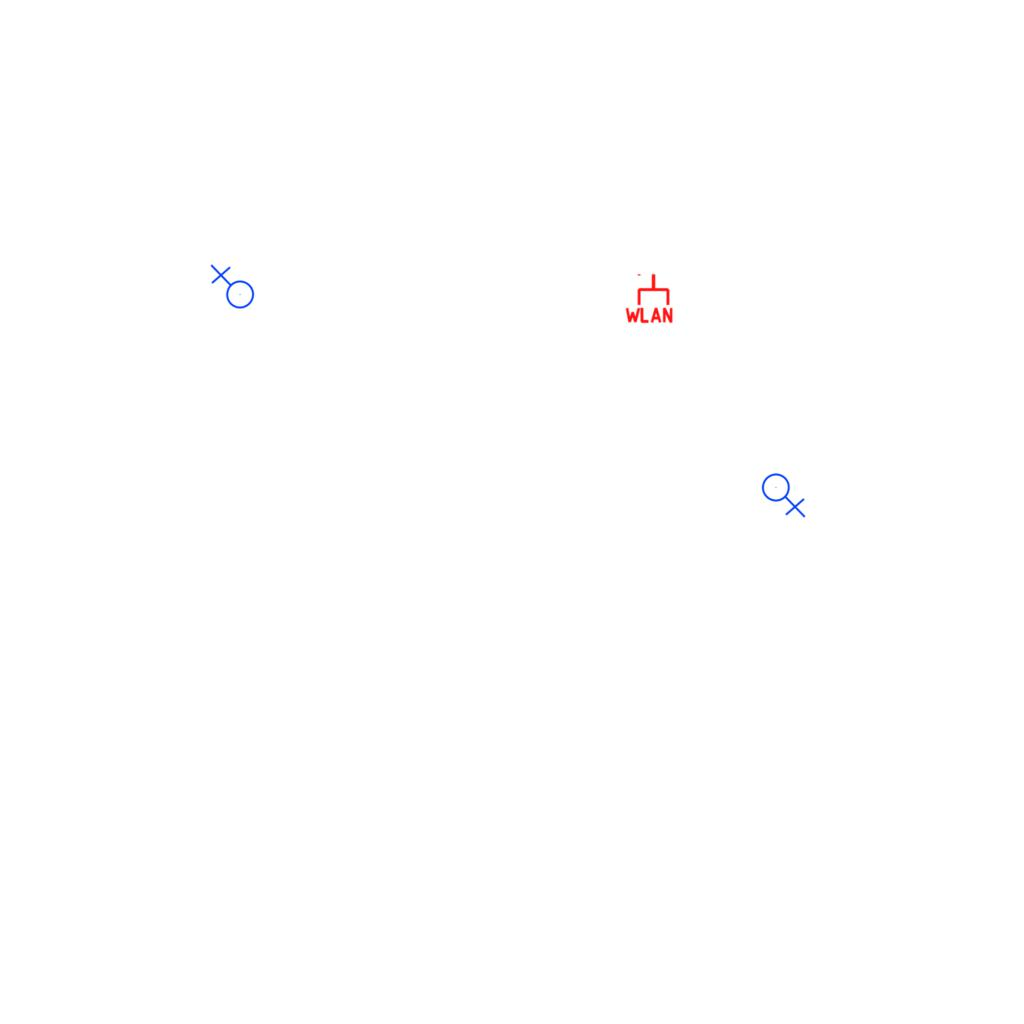Elektroanschluss_allgemein_230V_Geraeteanschlussdose_230V: (761, 469, 808, 518), (208, 264, 255, 313)
WLAN: (623, 272, 675, 324)
